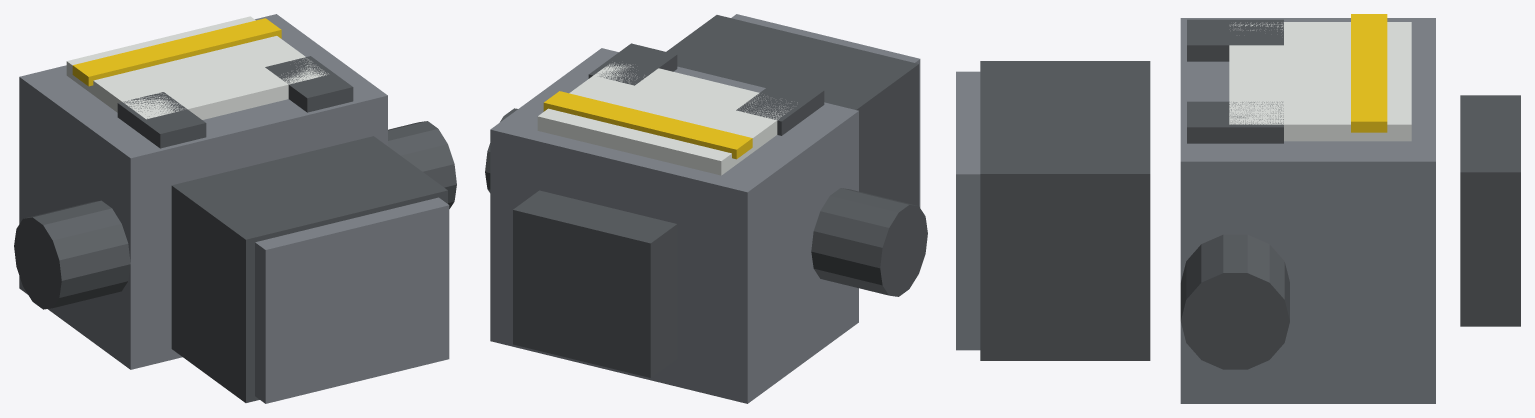
File: torso-scout.glb
3 views of the same model, side by side, from view 1: azimuth 30°, elevation 25°; view 2: azimuth 150°, elevation 25°; view 3: azimuth 270°, elevation 25° (orthographic). The views are drawn at different scales.
Visible parts, largest first — view 1: chest, pelvis, waist, chestplate, pod_L, stripe, pod_R, vent_L, vent_R; view 2: chest, collar, waist, chestplate, pod_L, stripe, vent_L, vent_R, pelvis; view 3: chest, waist, chestplate, collar, pod_R, pelvis, stripe, vent_L, vent_R.
Part boxes in pixels (x1,y1,x2,y2): chest: [19, 14, 387, 369]; pelvis: [255, 197, 449, 403]; waist: [171, 136, 447, 402]; chestplate: [66, 16, 328, 119]; pod_L: [14, 200, 130, 309]; stripe: [72, 18, 281, 86]; pod_R: [388, 121, 456, 208]; vent_L: [117, 92, 206, 148]; vent_R: [265, 56, 353, 112]; chest: [490, 48, 858, 403]; collar: [513, 190, 677, 377]; waist: [666, 15, 918, 205]; chestplate: [537, 62, 797, 175]; pod_L: [811, 188, 927, 296]; stripe: [543, 91, 752, 159]; vent_L: [736, 79, 824, 135]; vent_R: [588, 43, 677, 85]; pelvis: [731, 14, 920, 207]; chest: [1180, 18, 1435, 403]; waist: [980, 61, 1150, 360]; chestplate: [1229, 22, 1411, 141]; collar: [1460, 95, 1520, 326]; pod_R: [1180, 234, 1289, 369]; pelvis: [956, 71, 980, 350]; stripe: [1351, 14, 1387, 132]; vent_L: [1187, 19, 1283, 61]; vent_R: [1187, 101, 1283, 143].
Bounding box in the file's own units: 0.86 × 0.48 × 0.93.
